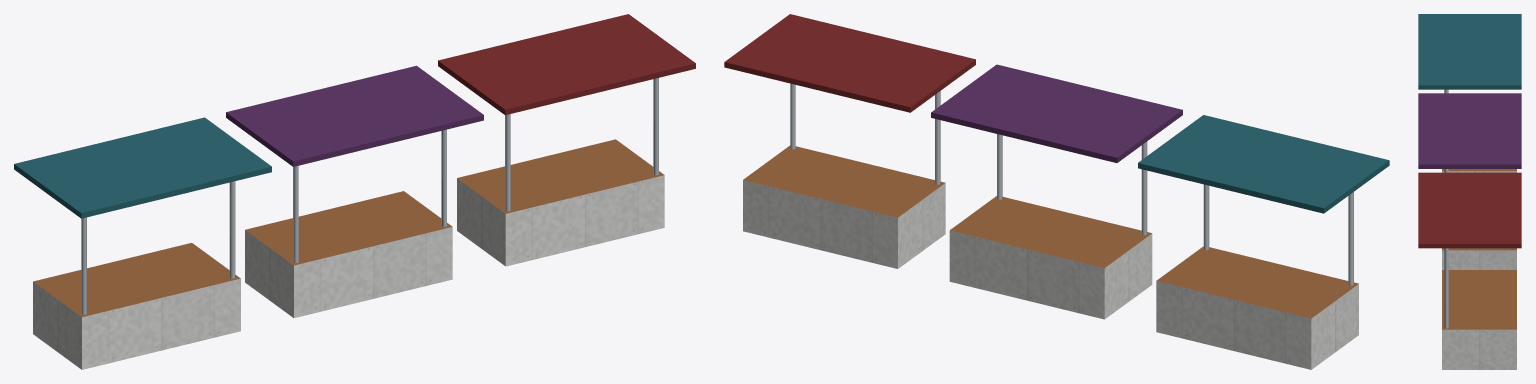
Rendered from prop_market_stall_row.glb.
3 views of the same model, side by side, from view 1: azimuth 30°, elevation 25°; view 2: azimuth 150°, elevation 25°; view 3: azimuth 270°, elevation 25° (orthographic). The views are drawn at different scales.
Parts seen in each view (by area): view 1: prop_market_stall_row_LOD0; view 2: prop_market_stall_row_LOD0; view 3: prop_market_stall_row_LOD0.
Part boxes in pixels (x1,y1,x2,y2): prop_market_stall_row_LOD0: (14, 14, 695, 369); prop_market_stall_row_LOD0: (724, 14, 1389, 369); prop_market_stall_row_LOD0: (1418, 14, 1521, 369).
Size of what is drawn, in the model's own units: 11.6 by 3.1 by 2.2.
2 materials, 2 textured.
